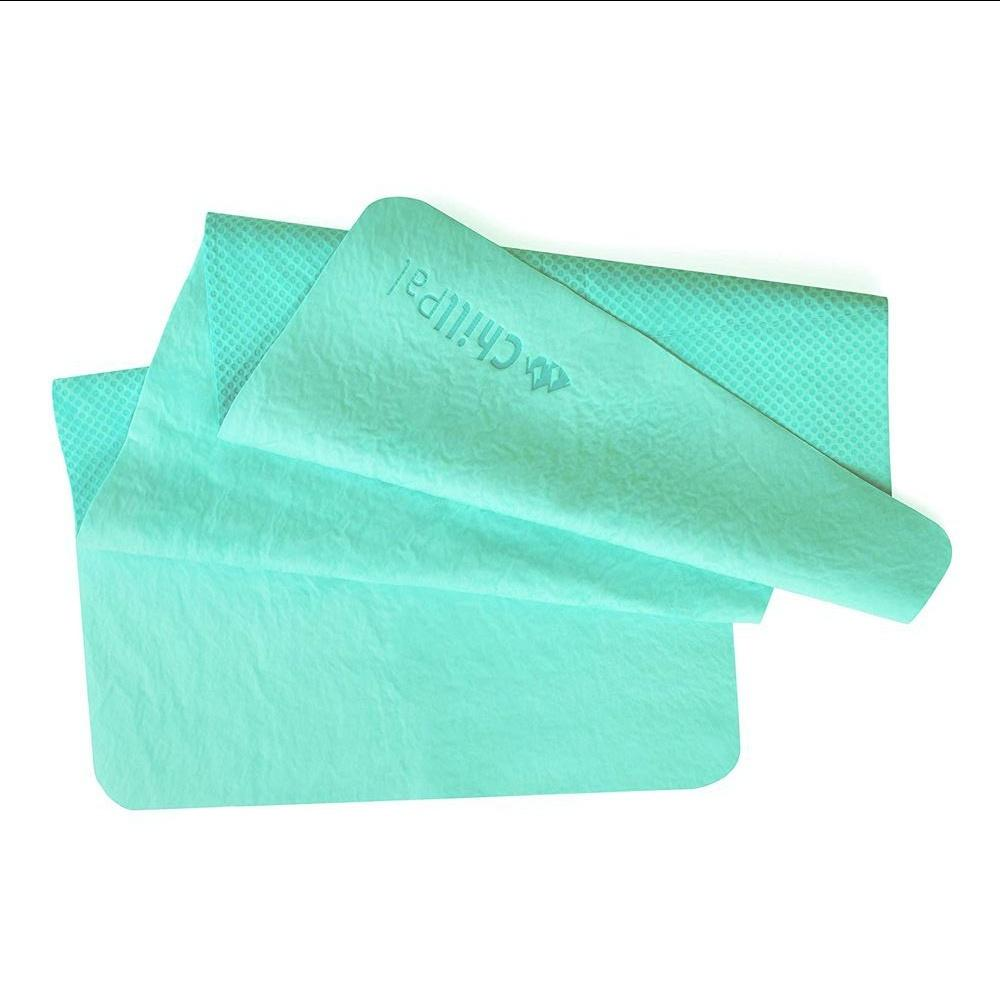Towel: (25, 195, 960, 885)
